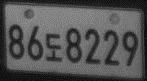2: (84, 27, 102, 66), (103, 28, 120, 67)
6: (26, 24, 44, 60)
8: (65, 27, 83, 63), (8, 23, 25, 59)
9: (121, 30, 139, 67)
도: (45, 32, 63, 62)
